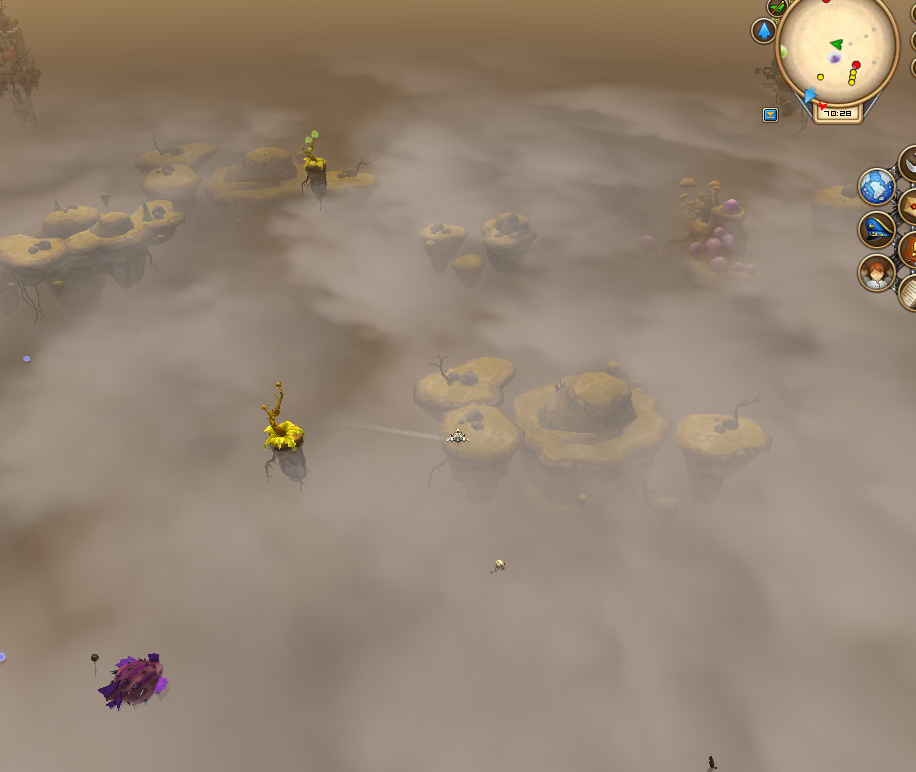dandelion-empty: (257, 374, 316, 488)
dandelion-full: (296, 120, 334, 209)
